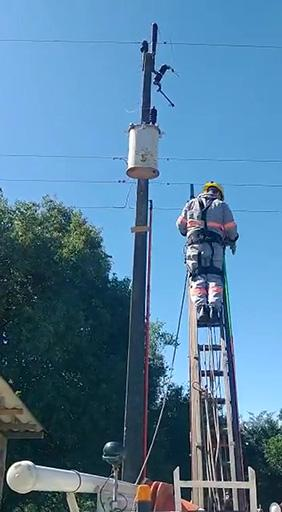Vara_Manobra: (141, 200, 154, 482)
